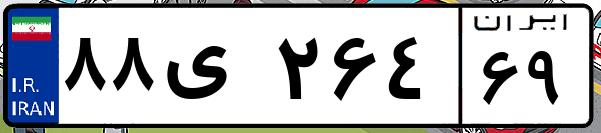2: (270, 28, 330, 110)
4: (385, 28, 445, 110)
6: (330, 28, 385, 110), (475, 38, 525, 113)
8: (57, 26, 110, 100), (110, 28, 158, 98)
9: (525, 38, 570, 115)
ی: (158, 20, 270, 120)
